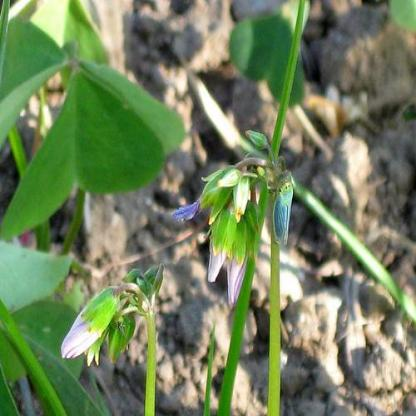Green-Leafhopper: (271, 167, 299, 255), (169, 198, 205, 226)
